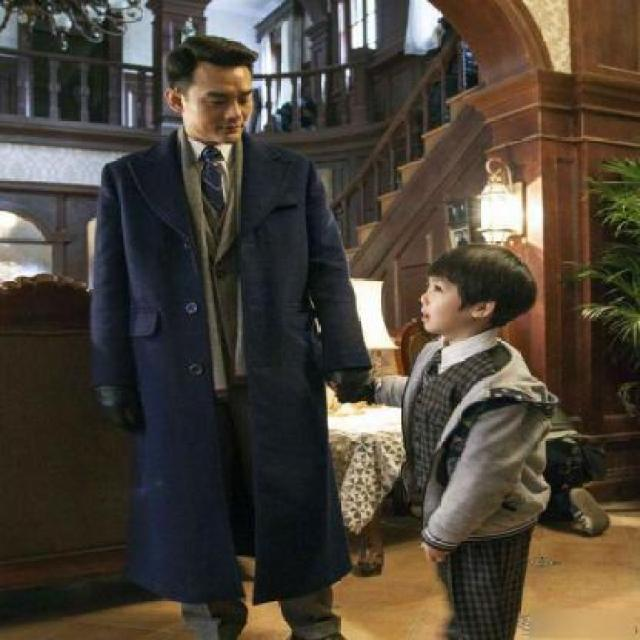Person: (79, 19, 395, 639), (338, 223, 607, 619)
